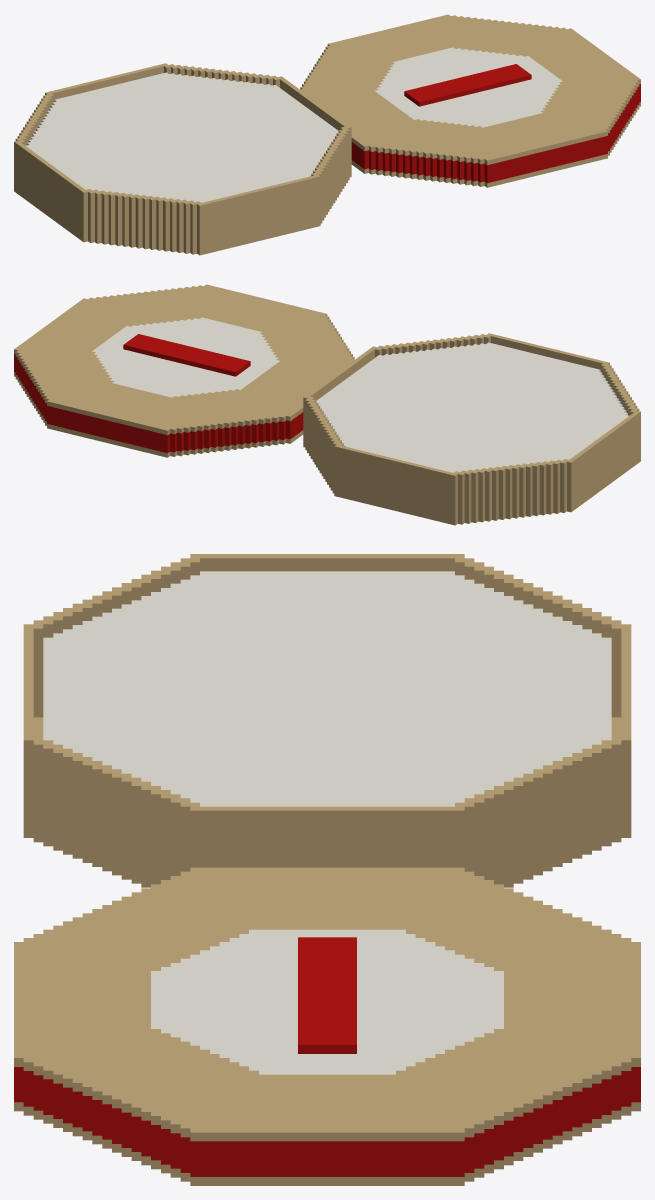
File: filter_paper_qualitative.glb
The picture shows the model from 3 angles, top to bottom: view 1: azimuth 30°, elevation 25°; view 2: azimuth 150°, elevation 25°; view 3: azimuth 270°, elevation 25°; orthographic projection. The views are drawn at different scales.
Visible parts, largest first — view 1: filter_paper_qualitative:compound; view 2: filter_paper_qualitative:compound; view 3: filter_paper_qualitative:compound.
Part boxes in pixels (x1=…): filter_paper_qualitative:compound: x1=14, y1=14, x2=640, y2=255; filter_paper_qualitative:compound: x1=14, y1=284, x2=640, y2=525; filter_paper_qualitative:compound: x1=14, y1=554, x2=640, y2=1185.
Size of the model in its own units: 0.258 by 0.022 by 0.128.
